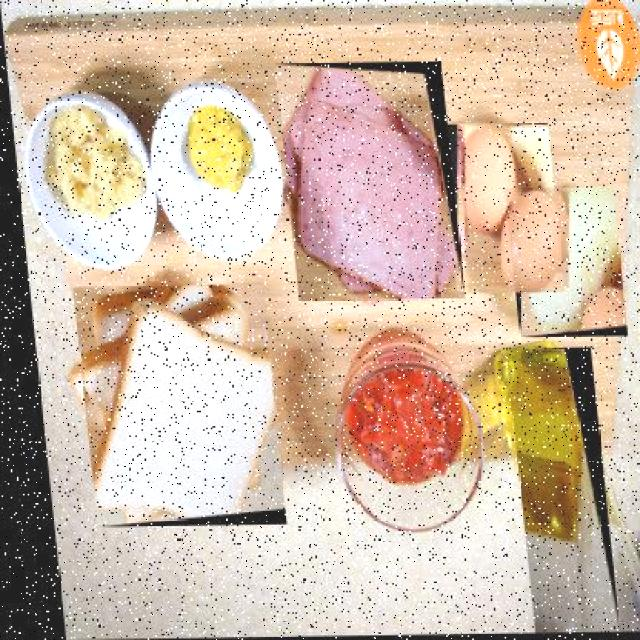Bread: (67, 283, 278, 528)
Egg: (437, 120, 560, 294)
Ham: (273, 61, 461, 302)
Olive Oil: (498, 346, 608, 634)
Onion: (501, 187, 622, 339)
